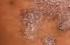plaque psoriasis: (22, 0, 70, 44), (23, 12, 41, 44), (43, 37, 56, 45)
